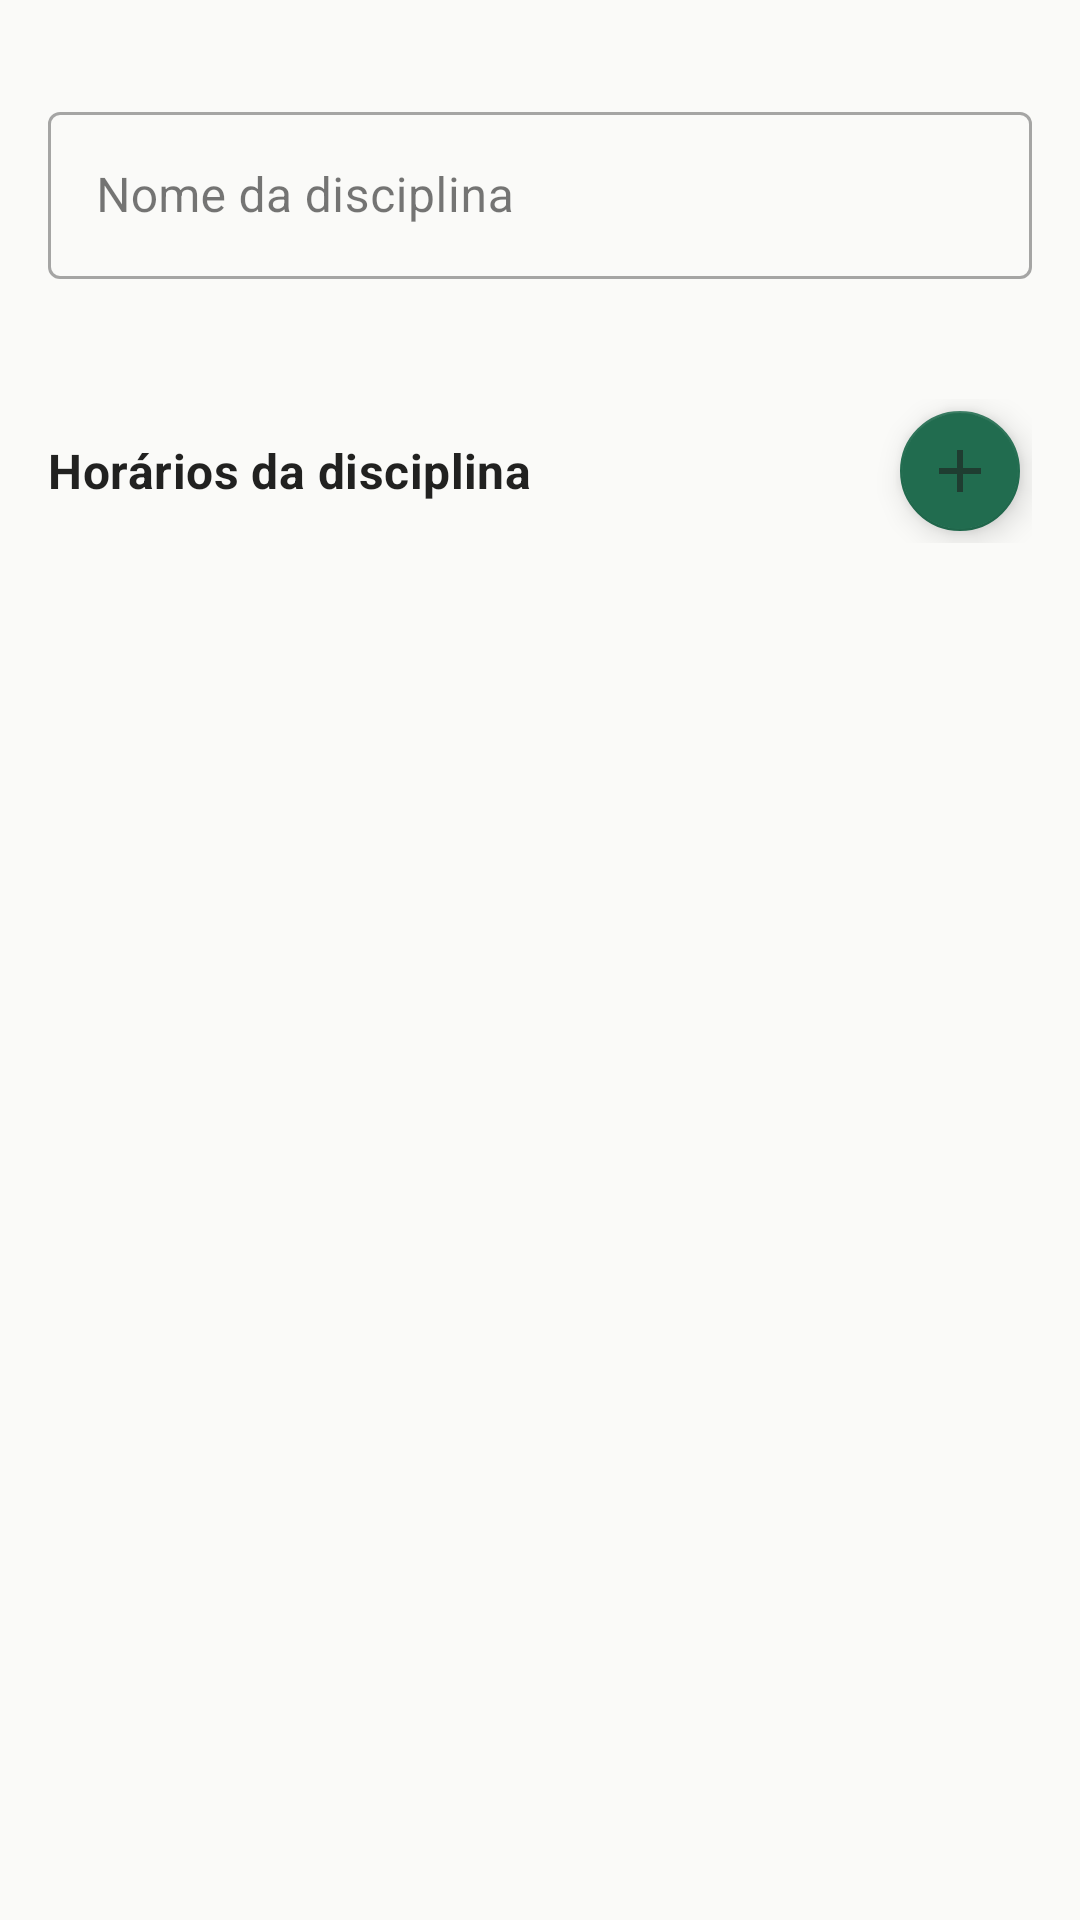

Where to tap for icons on this 1080 × 1920 app screen, as (x=x, y=y):
Adicionar horário: (x=960, y=471)
